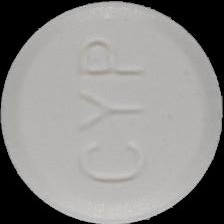68151-2506: (0, 0, 224, 224)
